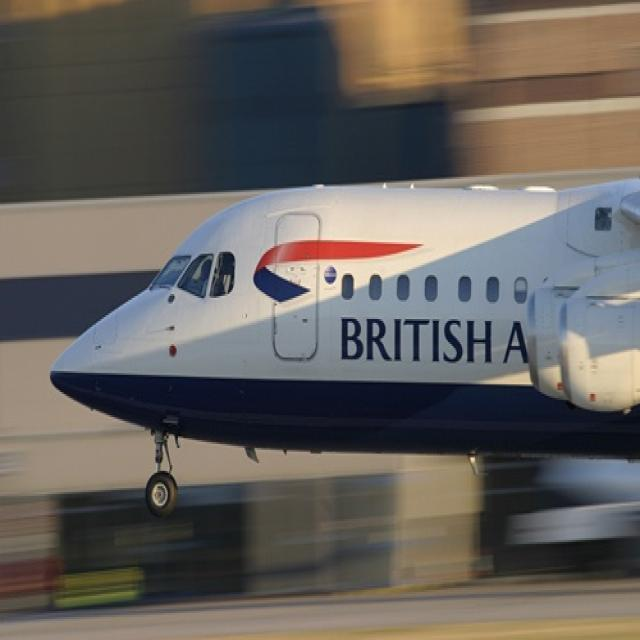aeroplane: (34, 166, 640, 524)
